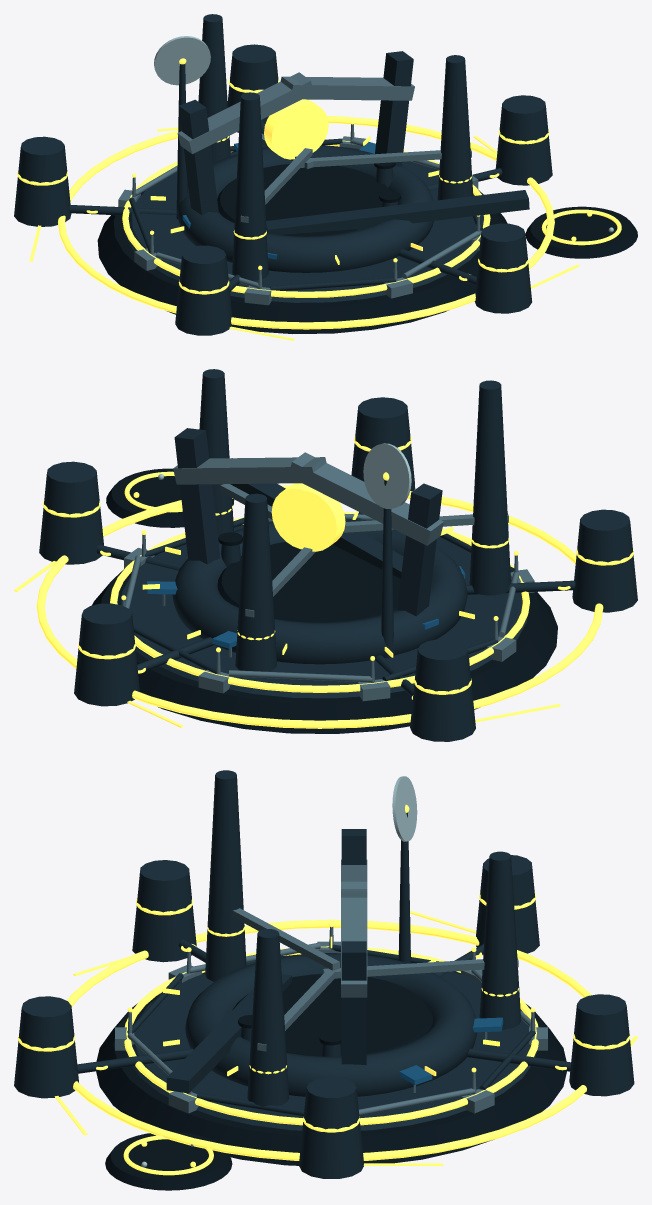
Rendered from metalMine-stage3.glb.
The picture shows the model from 3 angles, top to bottom: view 1: azimuth 30°, elevation 25°; view 2: azimuth 150°, elevation 25°; view 3: azimuth 270°, elevation 25°; orthographic projection. The views are drawn at different scales.
Visible parts, largest first — view 1: excavation-rim, armored-foundation, upper-deck, excavation-pit, district-grid-2, excavator-tower (×2), processing-tower-1, excavator-boom (×2), ore-conveyor, refinery-annex-2, refinery-annex-1, refinery-annex-3 (+16 smaller); view 2: excavation-rim, armored-foundation, upper-deck, excavation-pit, excavator-tower (×2), district-grid-2, excavator-boom (×2), processing-tower-1, processing-tower-2, refinery-annex-3, refinery-annex-4, refinery-annex-2 (+18 smaller); view 3: excavation-rim, armored-foundation, upper-deck, district-grid-2, excavation-pit, processing-tower-1, processing-tower-0, refinery-annex-0, processing-tower-2, refinery-annex-1, refinery-annex-4, refinery-annex-2 (+16 smaller).
Boxes of the visible parts, <box> form: excavation-rim: <box>177,145,433,272</box>; armored-foundation: <box>97,145,507,333</box>; upper-deck: <box>124,147,483,302</box>; excavation-pit: <box>217,164,390,236</box>; district-grid-2: <box>58,116,554,329</box>; excavator-tower (×2): <box>179,51,413,215</box>; processing-tower-1: <box>232,92,268,280</box>; excavator-boom (×2): <box>177,72,414,154</box>; ore-conveyor: <box>266,190,529,235</box>; refinery-annex-2: <box>175,245,232,335</box>; refinery-annex-1: <box>474,223,532,313</box>; refinery-annex-3: <box>14,136,71,226</box>; excavation-rim: <box>172,519,467,664</box>; armored-foundation: <box>92,525,557,733</box>; upper-deck: <box>117,521,527,698</box>; excavation-pit: <box>217,542,400,622</box>; excavator-tower (×2): <box>174,428,442,616</box>; district-grid-2: <box>36,485,603,728</box>; excavator-boom (×2): <box>173,452,443,545</box>; processing-tower-1: <box>469,380,510,595</box>; processing-tower-2: <box>235,493,276,671</box>; refinery-annex-3: <box>410,639,475,741</box>; refinery-annex-4: <box>74,603,139,706</box>; refinery-annex-2: <box>572,509,637,612</box>; excavation-rim: <box>185,953,477,1096</box>; armored-foundation: <box>96,954,566,1165</box>; upper-deck: <box>126,955,536,1130</box>; district-grid-2: <box>67,919,591,1160</box>; excavation-pit: <box>232,974,433,1056</box>; processing-tower-1: <box>205,770,246,981</box>; processing-tower-0: <box>247,929,289,1106</box>; refinery-annex-0: <box>299,1077,363,1178</box>; processing-tower-2: <box>479,851,521,1029</box>; refinery-annex-1: <box>14,996,78,1098</box>; refinery-annex-4: <box>569,994,634,1096</box>; refinery-annex-2: <box>132,860,196,962</box>.
Bounding box in the file's own units: 14.67 × 5.93 × 14.14.
